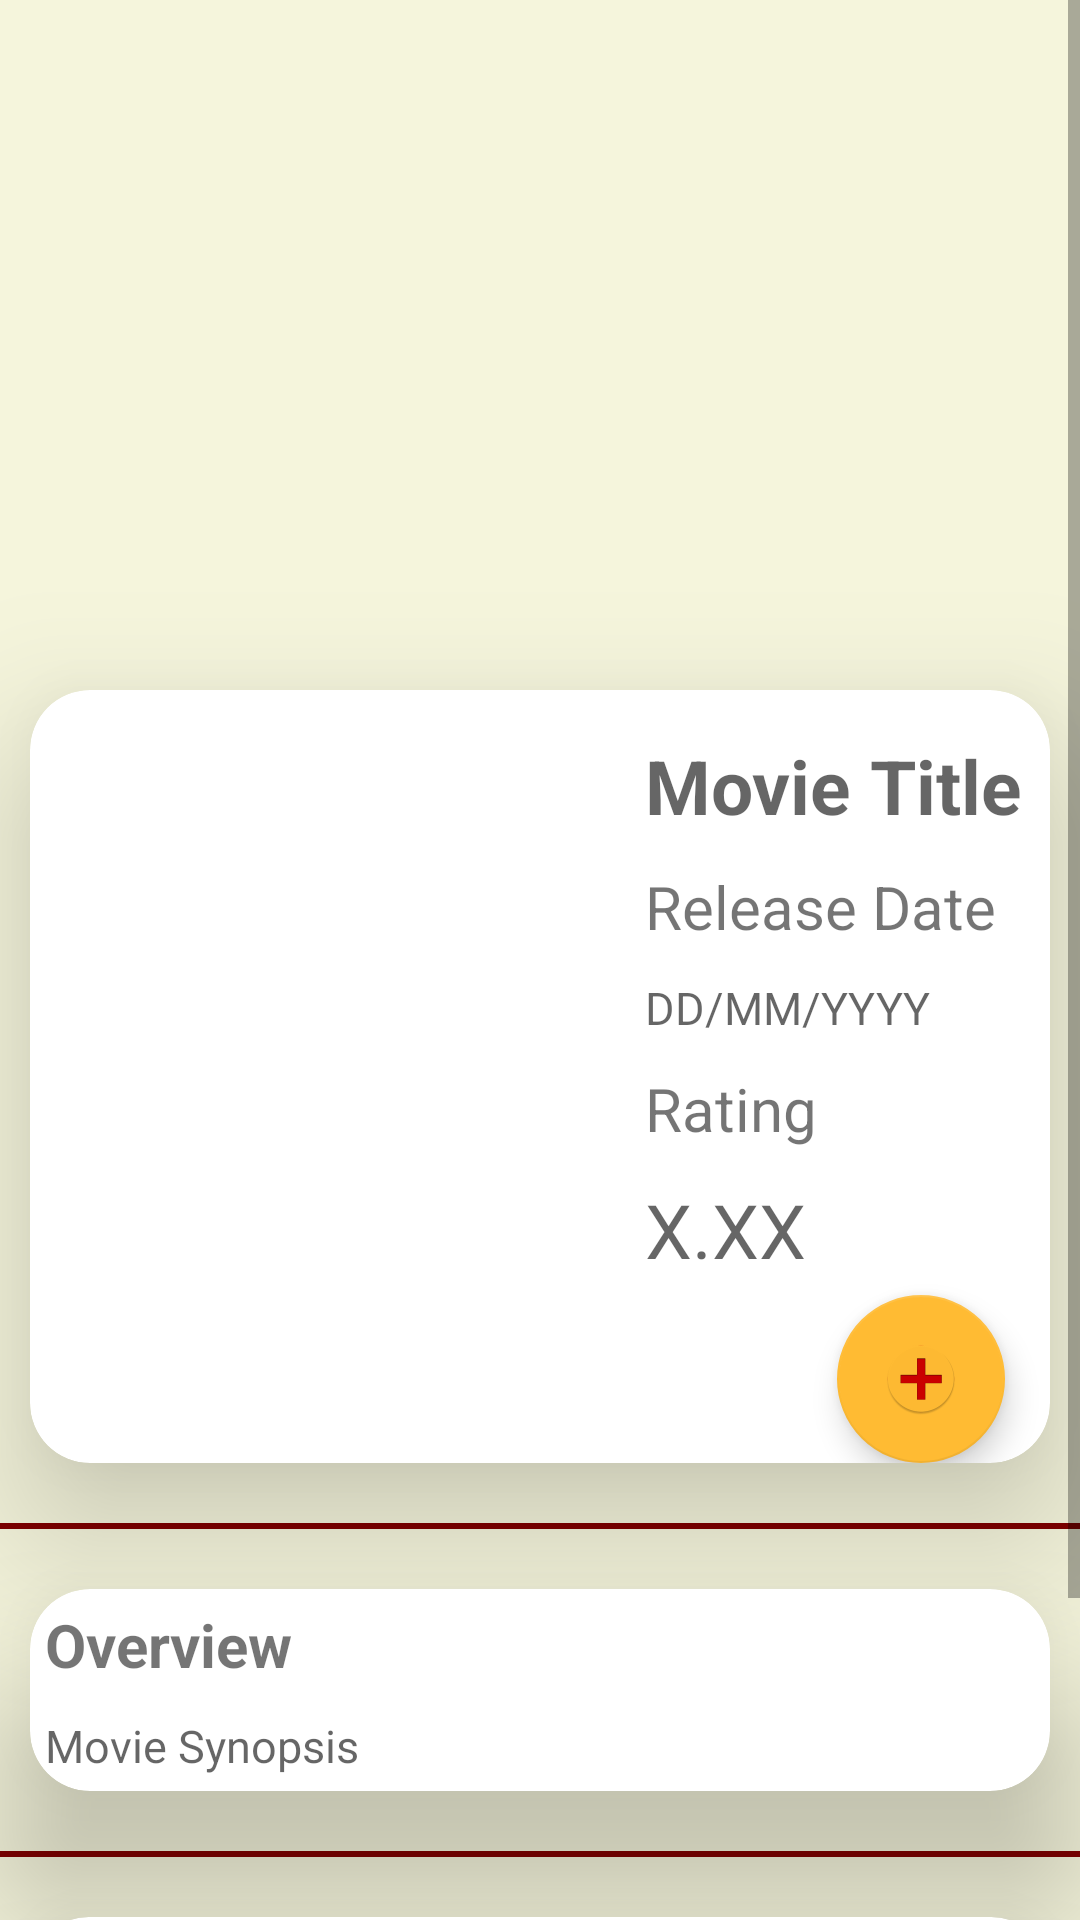

Icons on this 1080*1920 Android screen, each with its box as region(x1, y1, x2, y2):
add favorite: region(837, 1295, 1005, 1463)
